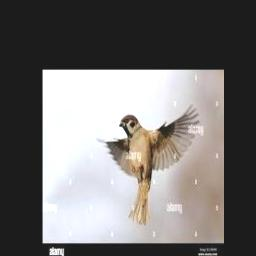Sparrow: (96, 104, 199, 225)
